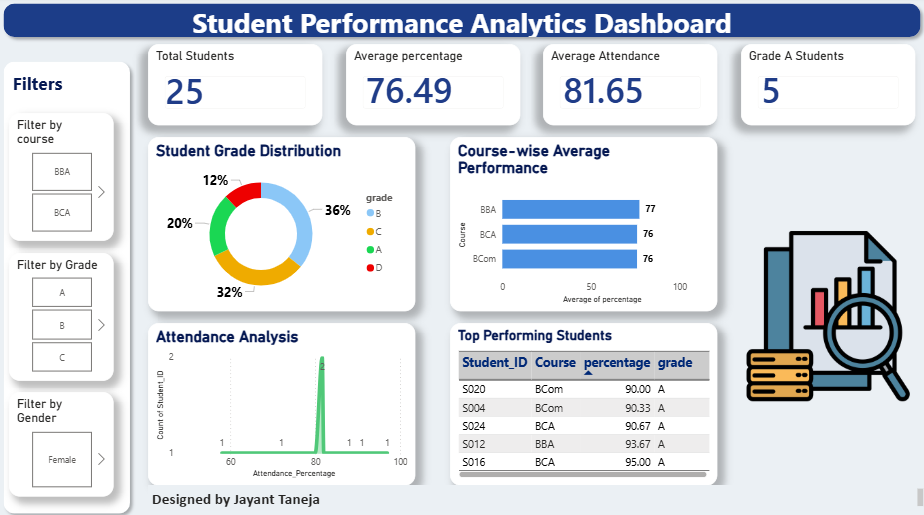

What the dashboard file says about the page in this screenshot:
{"tool":"powerbi","page":{"name":"Page 1","canvas":[1280,720],"ordinal":0},"visuals":[{"type":"shape","box":[0,0,1280,64],"z":0},{"type":"cardVisual","title":"Total Students","fields":{"Data":["Count(Sheet1.Student_ID)"]},"box":[208,64,240,112],"z":1000},{"type":"cardVisual","title":"Average percentage","fields":{"Data":["Avg(Sheet1.percentage)"]},"box":[480,64,240,112],"z":2000},{"type":"cardVisual","title":"Average Attendance ","fields":{"Data":["Avg(Sheet1.Attendance_Percentage)"]},"box":[752,64,240,112],"z":3000},{"type":"cardVisual","title":"Grade A Students","fields":{"Data":["CountNonNull(Sheet1.grade)"]},"box":[1024,64,240,112],"z":4000},{"type":"donutChart","title":"Student Grade Distribution","fields":{"Category":["Sheet1.grade"],"Y":["CountNonNull(Sheet1.Student_ID)"]},"box":[208,192,368,240],"z":5000},{"type":"clusteredBarChart","title":"Course-wise Average Performance","fields":{"Category":["Sheet1.Course"],"Y":["Avg(Sheet1.percentage)"]},"box":[624,192,368,240],"z":6000},{"type":"areaChart","title":"Attendance Analysis","fields":{"Y":["CountNonNull(Sheet1.Student_ID)"],"Category":["Sheet1.Attendance_Percentage"]},"box":[208,448,368,224],"z":7000},{"type":"tableEx","title":"Top Performing Students","fields":{"Values":["Sheet1.Student_ID","Sheet1.Course","Sheet1.percentage","Sheet1.grade"]},"box":[624,448,368,224],"z":8000},{"type":"shape","box":[0,80,192,640],"z":9000},{"type":"textbox","box":[16,96,128,48],"z":10000},{"type":"slicer","title":"Filter by course","fields":{"Values":["Sheet1.Course"]},"box":[16,160,144,176],"z":11000},{"type":"slicer","title":"Filter by Grade","fields":{"Values":["Sheet1.grade"]},"box":[16,352,144,176],"z":12000},{"type":"slicer","title":"Filter by Gender","fields":{"Values":["Sheet1.Gender"]},"box":[16,544,144,144],"z":13000},{"type":"textbox","box":[208,672,1072,35],"z":14000},{"type":"image","box":[1024,192,240,496],"z":15000}]}

Visuals, with their boxes in screenshot pixels (x1, y1, x2, y2), scaled from the page's 1280x720 canvas onto the 924x515 screenshot:
shape: crop(0, 0, 923, 46)
"Total Students" cardVisual: crop(150, 46, 323, 126)
"Average percentage" cardVisual: crop(346, 46, 520, 126)
"Average Attendance " cardVisual: crop(543, 46, 716, 126)
"Grade A Students" cardVisual: crop(739, 46, 912, 126)
"Student Grade Distribution" donutChart: crop(150, 137, 416, 309)
"Course-wise Average Performance" clusteredBarChart: crop(450, 137, 716, 309)
"Attendance Analysis" areaChart: crop(150, 320, 416, 481)
"Top Performing Students" tableEx: crop(450, 320, 716, 481)
shape: crop(0, 57, 139, 514)
textbox: crop(12, 69, 104, 103)
"Filter by course" slicer: crop(12, 114, 116, 240)
"Filter by Grade" slicer: crop(12, 252, 116, 378)
"Filter by Gender" slicer: crop(12, 389, 116, 492)
textbox: crop(150, 481, 923, 506)
image: crop(739, 137, 912, 492)
